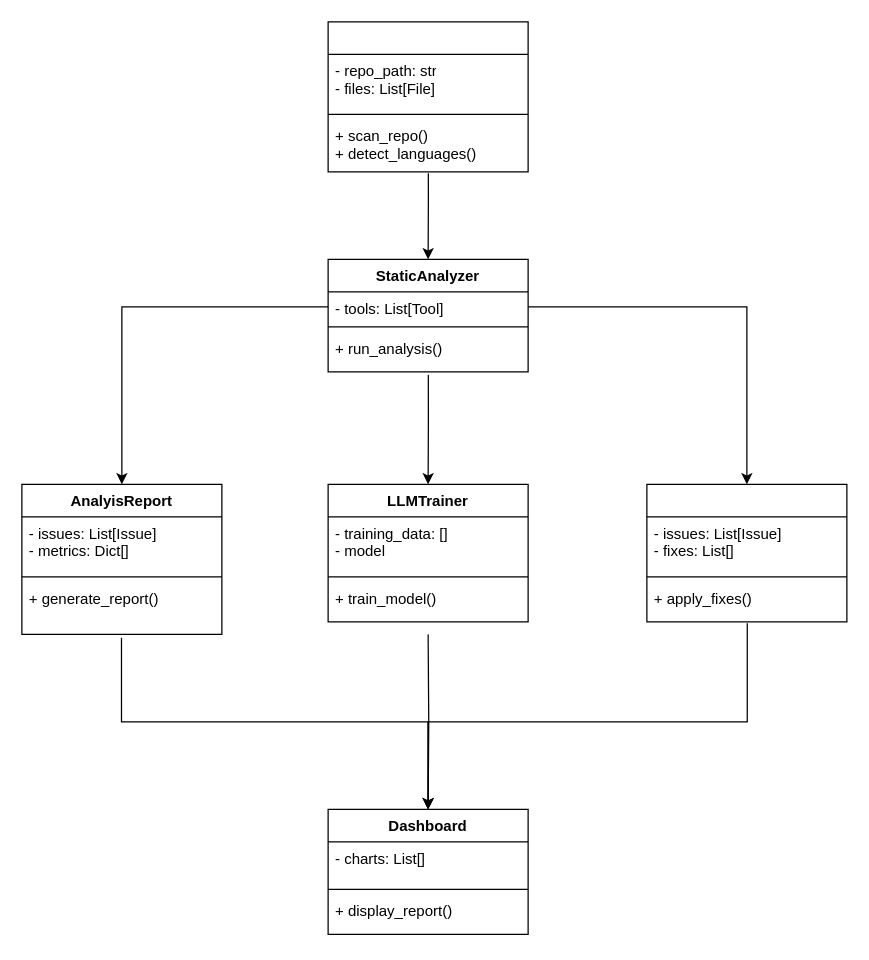
Some shapes in this 869 by 960 pixel diagram are drawn without their labels. Each missing label, with the box of its shape:
AutoFixer: (646, 483, 847, 622)
RepositoryScanner: (327, 21, 528, 172)
